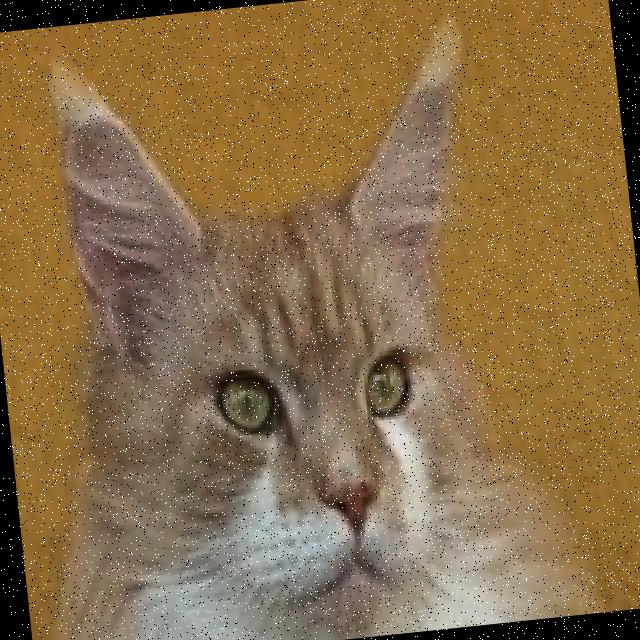Angry: (137, 305, 491, 640)
